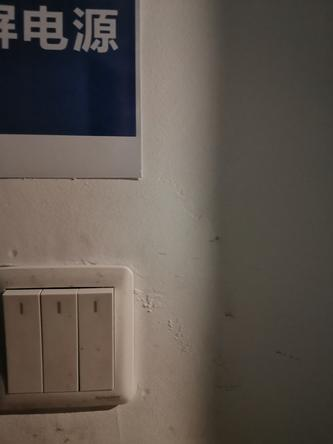switch: (71, 284, 122, 396), (37, 285, 83, 396), (1, 283, 46, 396)
